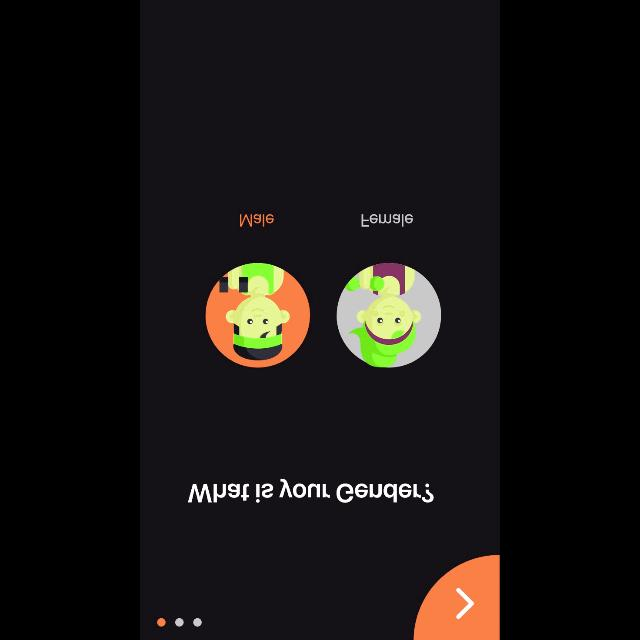icon: (456, 587, 474, 619)
image: (206, 262, 310, 368), (337, 263, 441, 367)
pageindicator: (158, 617, 202, 627)
text: (188, 478, 434, 502), (361, 214, 413, 226), (240, 214, 274, 226)
